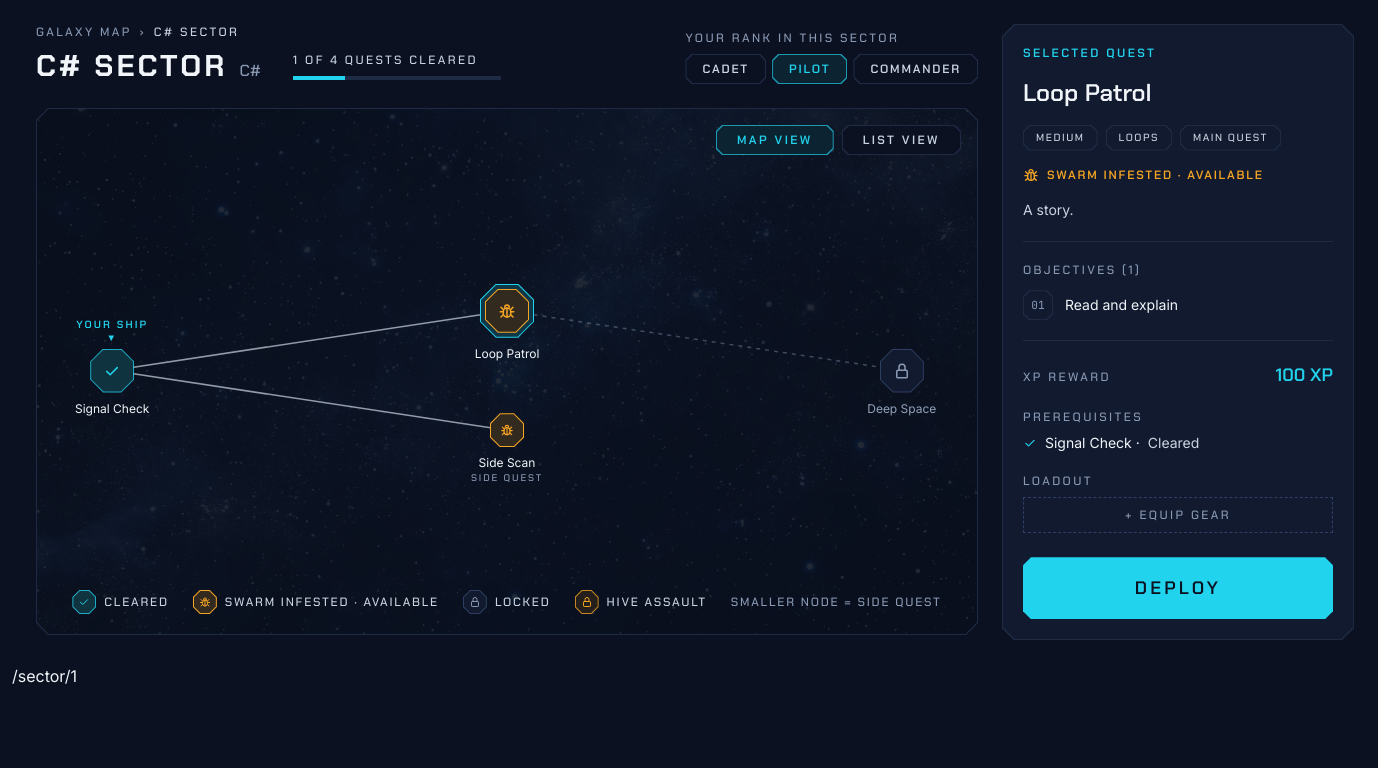
Test: SectorPage › explains what a locked quest is waiting for
The width and height of the screenshot is (1378, 768).
expect the heading "C# SectorC#" is shown: met, box x1=36 y1=48 x2=261 y2=84
Click the button named "Deep Space" at [902, 370], box x1=880 y1=348 x2=924 y2=392
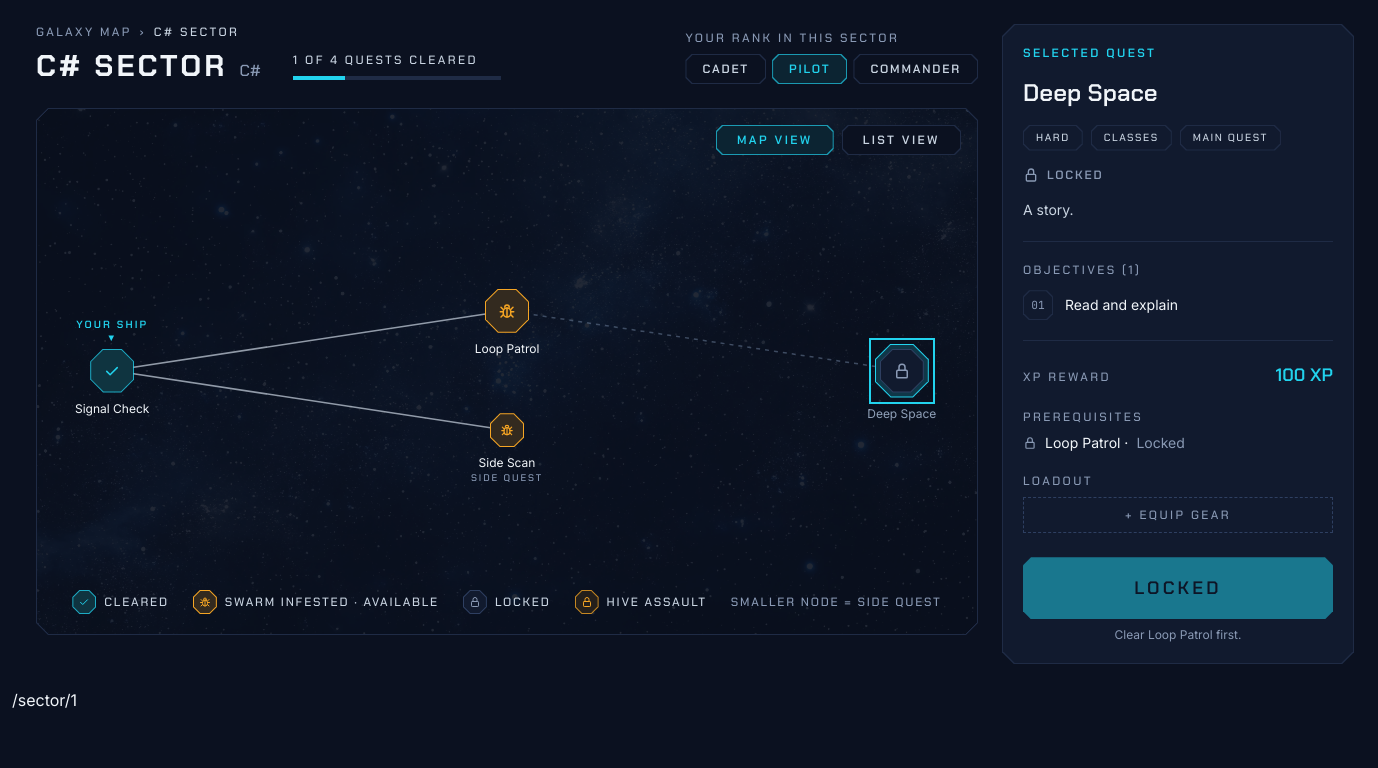
expect the button "Locked" is disabled: met, box x1=1023 y1=557 x2=1333 y2=619
expect the text "Clear Loop Patrol first." is shown: met, box x1=1114 y1=627 x2=1242 y2=642
expect the list item "Loop Patrol · Locked" is shown: met, box x1=1023 y1=434 x2=1185 y2=451
